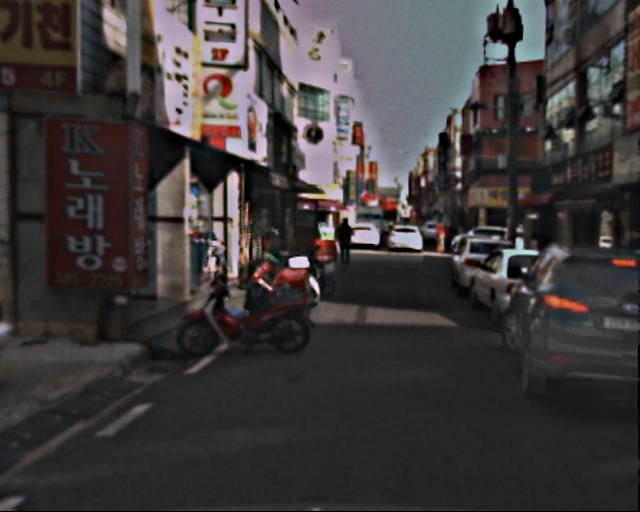person: (338, 218, 360, 271), (435, 222, 455, 254)
